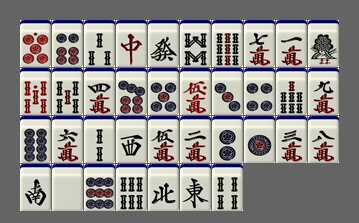0m: (180, 68, 211, 115)
0p: (20, 20, 51, 67)
0s: (20, 68, 51, 115)
1m: (276, 20, 307, 67)
1p: (244, 116, 275, 163)
1s: (308, 20, 339, 67)
1z: (180, 164, 211, 211)
2m: (180, 116, 211, 163)
2p: (212, 116, 243, 163)
2s: (84, 116, 115, 163)
2z: (20, 164, 51, 211)
3m: (276, 116, 307, 163)
3p: (212, 68, 243, 115)
3s: (84, 20, 115, 67)
3z: (116, 116, 147, 163)
4m: (84, 68, 115, 115)
4p: (244, 68, 275, 115)
4s: (212, 164, 243, 211)
4z: (148, 164, 179, 211)
5m: (148, 116, 179, 163)
5p: (148, 68, 179, 115)
5s: (52, 68, 83, 115)
5z: (52, 164, 83, 211)
6m: (52, 116, 83, 163)
6p: (52, 20, 83, 67)
6s: (116, 164, 147, 211)
6z: (148, 20, 179, 67)
7m: (244, 20, 275, 67)
7p: (116, 68, 147, 115)
7s: (276, 68, 307, 115)
7z: (116, 20, 147, 67)
8m: (308, 116, 339, 163)
8p: (20, 116, 51, 163)
8s: (180, 20, 211, 67)
9m: (308, 68, 339, 115)
9p: (84, 164, 115, 211)
9s: (212, 20, 243, 67)
